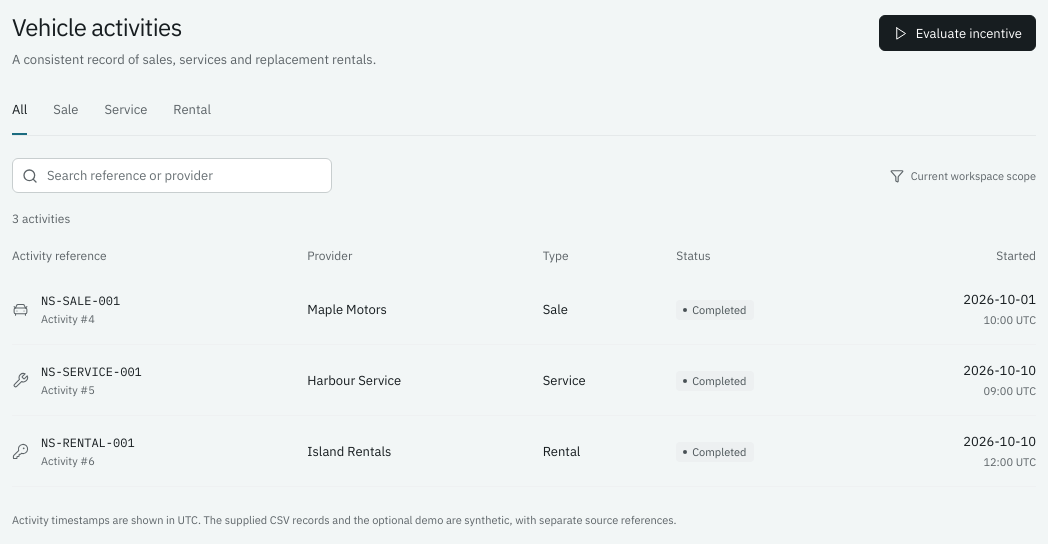
Scenario: operations components › filters actual activity rows by reference
Type "RENTAL" into the field labelled "Search reference or provider".
click(172, 176); type("RENTAL")  # box top-left (12, 158), bottom-right (332, 193)
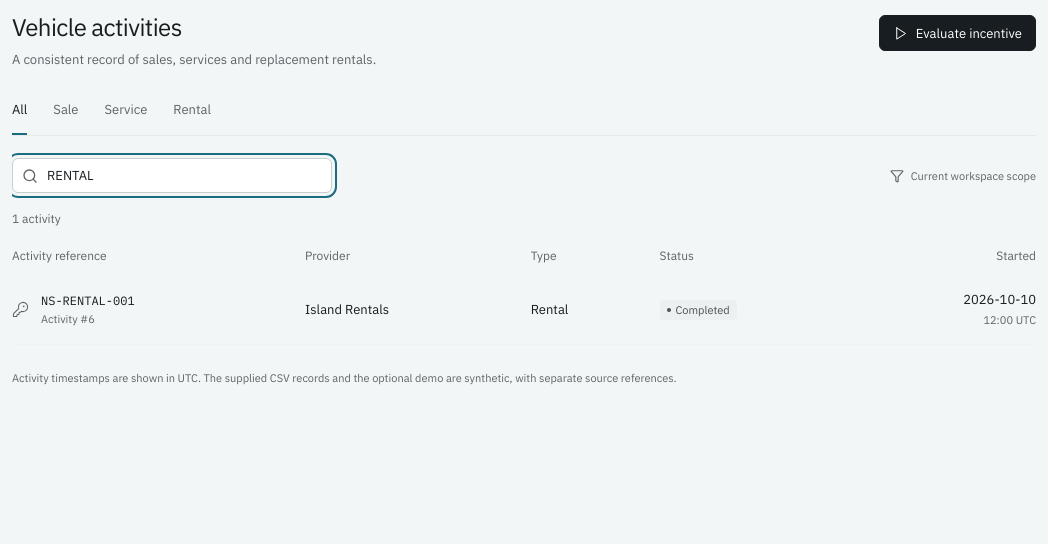
Expected: the text "NS-RENTAL-001" is shown, top-left (41, 293), bottom-right (135, 308)
Result: the text "NS-SALE-001" is gone
